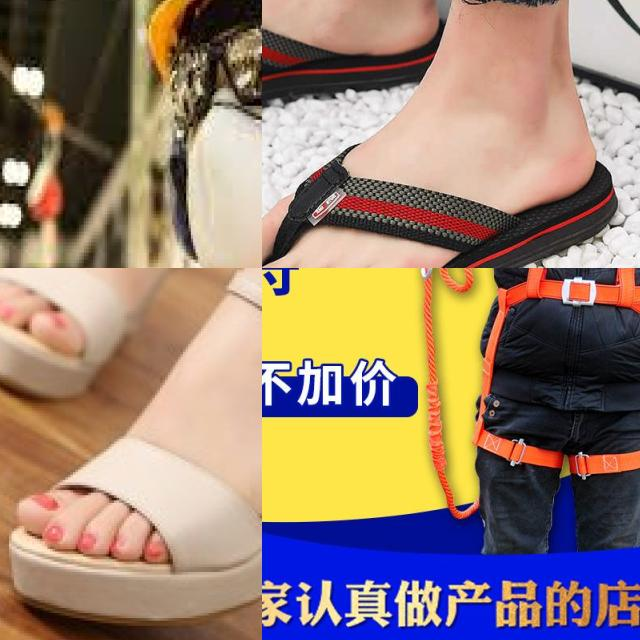Ear-protection: (156, 74, 262, 234)
Harness: (502, 268, 640, 480)
Sandals: (8, 268, 262, 626), (262, 101, 614, 268), (262, 0, 440, 106)
